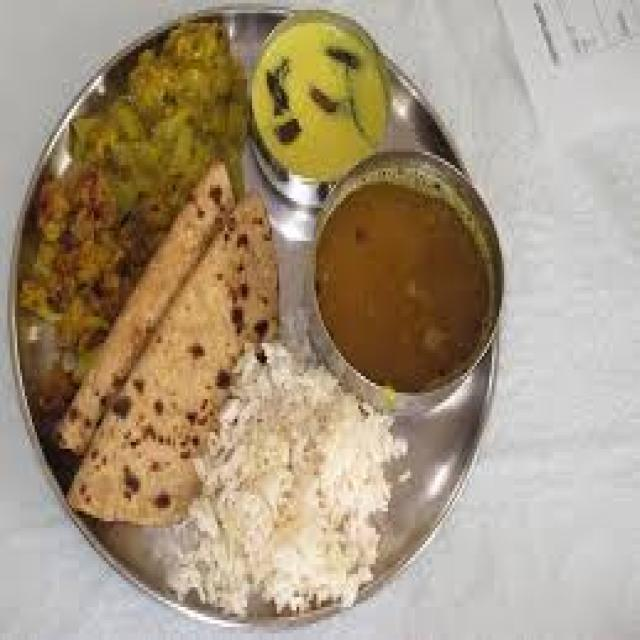dal: (309, 172, 498, 388), (70, 27, 243, 256), (263, 11, 387, 194)
papad: (72, 160, 290, 480)
veg-fry: (97, 11, 242, 233)
